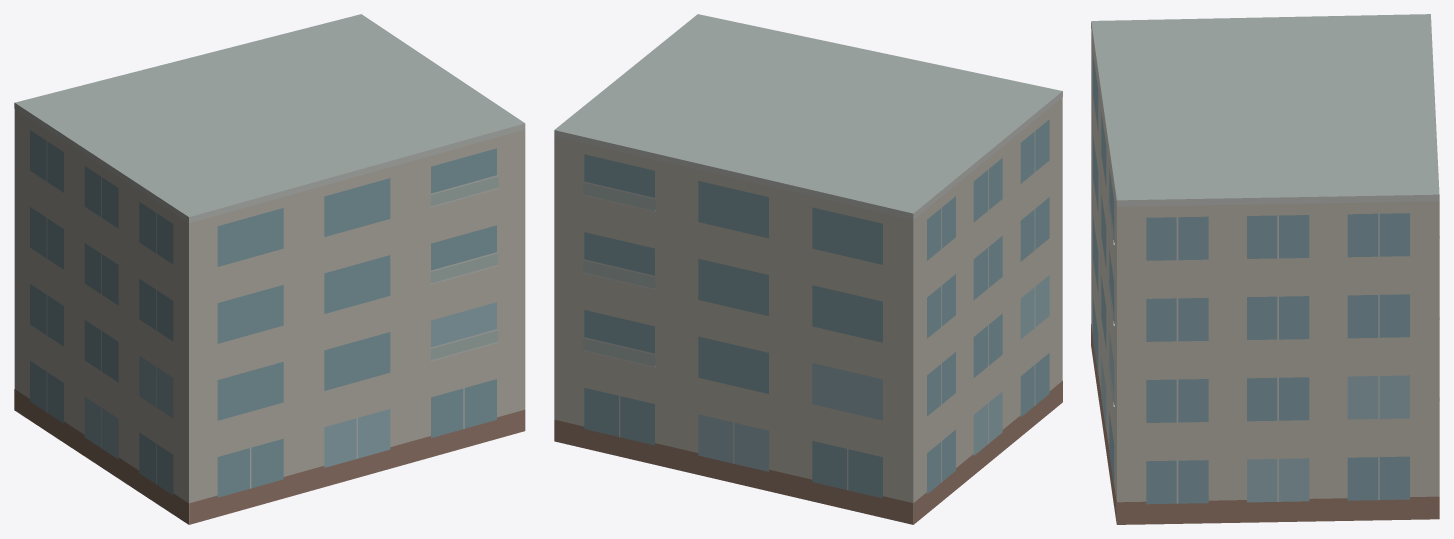
The model's file is survey-upis-32747356.glb.
3 views of the same model, side by side, from view 1: azimuth 30°, elevation 25°; view 2: azimuth 150°, elevation 25°; view 3: azimuth 270°, elevation 25° (orthographic). The views are drawn at different scales.
Parts seen in each view (by area): view 1: survey-upis-32747356.tmp; view 2: survey-upis-32747356.tmp; view 3: survey-upis-32747356.tmp.
Boxes of the visible parts, left/top/right/bottom form: survey-upis-32747356.tmp: left=14, top=14, right=525, bottom=524; survey-upis-32747356.tmp: left=554, top=14, right=1062, bottom=524; survey-upis-32747356.tmp: left=1091, top=14, right=1439, bottom=524.
Size of the model in its own units: 15.03 by 12.2 by 11.89.
